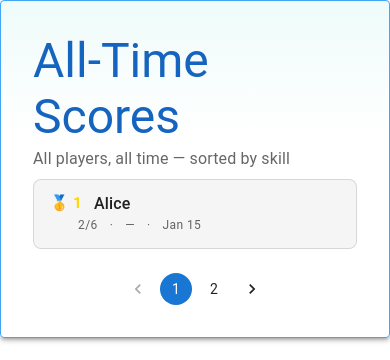
Scenario: AllTimeScores › shows pagination and allows navigating to the next page
The width and height of the screenshot is (390, 360).
Expected: the text "Alice" is shown, [94,192,131,216]
Expected: the navigation bar is shown, [119,272,271,304]
Click the button "2" at x=214, y=288, box [198,272,230,304]
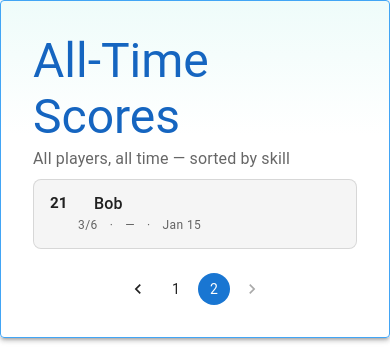
Expected: the text "Bob" is shown, [94,192,123,216]
Expected: the text "21" is shown, [50,194,68,212]
